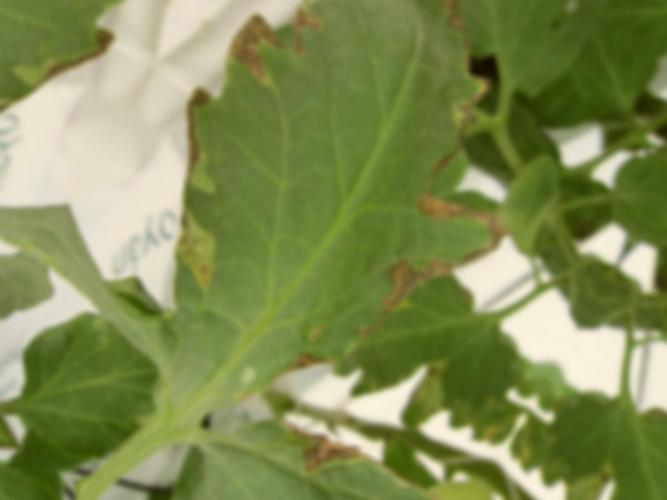Tomato leaf bacterial spot: (55, 0, 622, 491), (125, 349, 463, 500)
